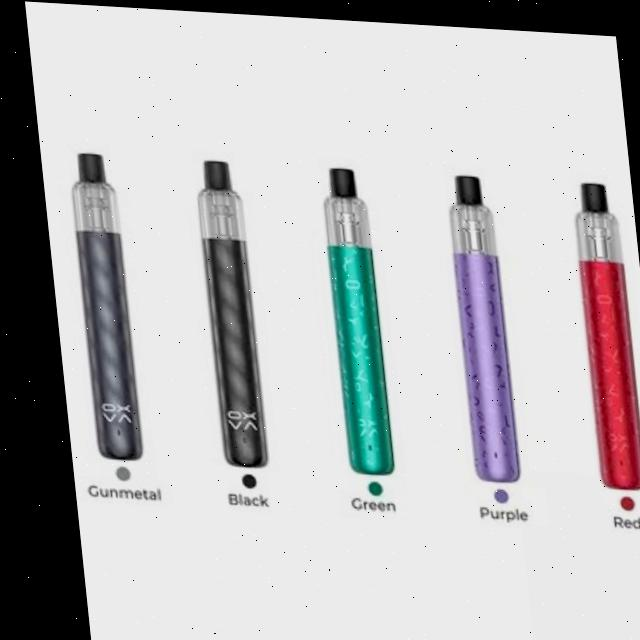vape: (62, 149, 135, 460), (188, 156, 261, 466), (313, 162, 386, 472), (439, 169, 512, 479), (565, 174, 638, 484)
